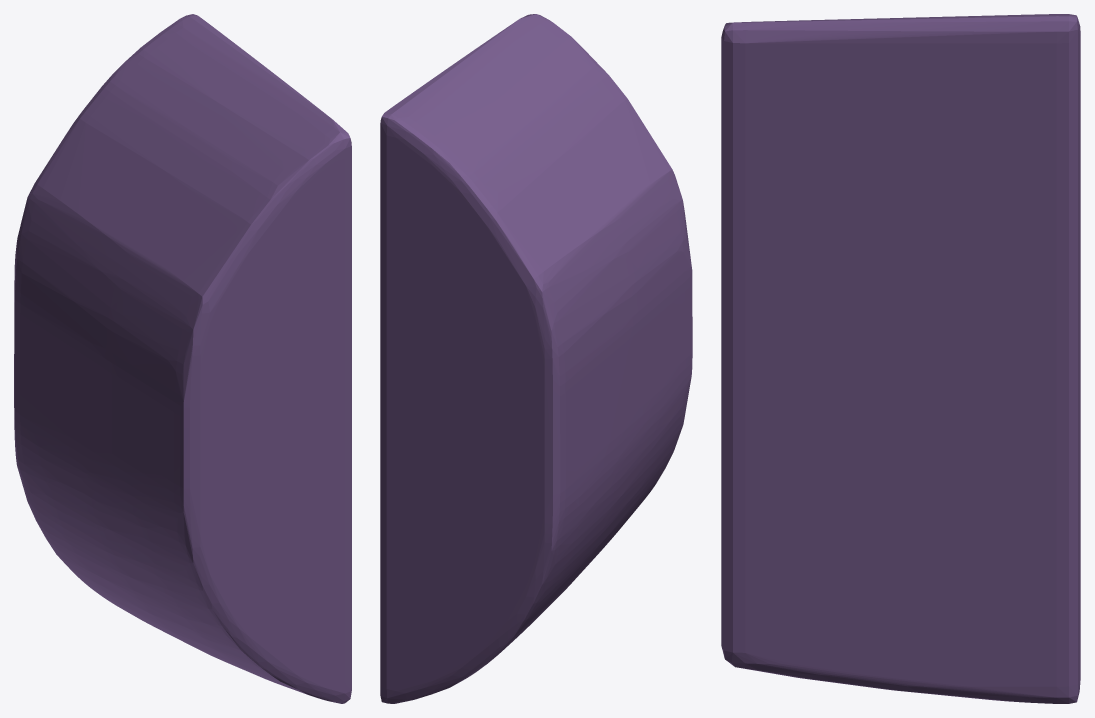
File: right_th_distal_pst_part_1.obj
The picture shows the model from 3 angles, left to right: view 1: azimuth 30°, elevation 25°; view 2: azimuth 150°, elevation 25°; view 3: azimuth 270°, elevation 25°; orthographic projection. The views are drawn at different scales.
Bounding box in the file's own units: 5.55 × 17.3 × 8.23.
